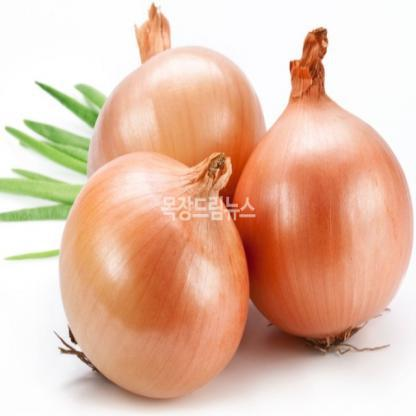onion: (57, 170, 247, 412), (240, 91, 416, 338), (93, 21, 264, 182)
